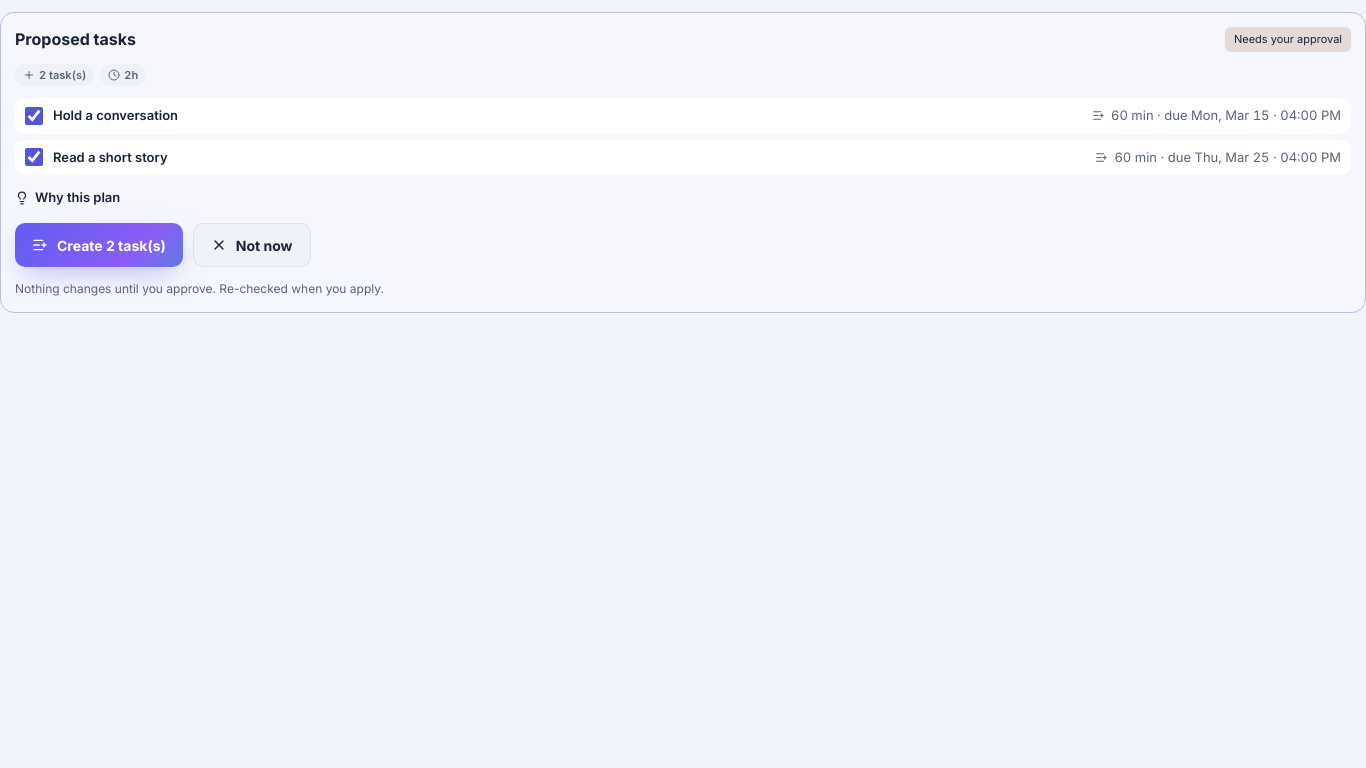
Test: copilot v3 › creates only the tasks the user keeps selected
Check: the text "Proposed tasks" is shown, box [15, 27, 136, 51]
Click the checkbox labelled "Hold a conversation" at (34, 116), box [25, 107, 43, 125]
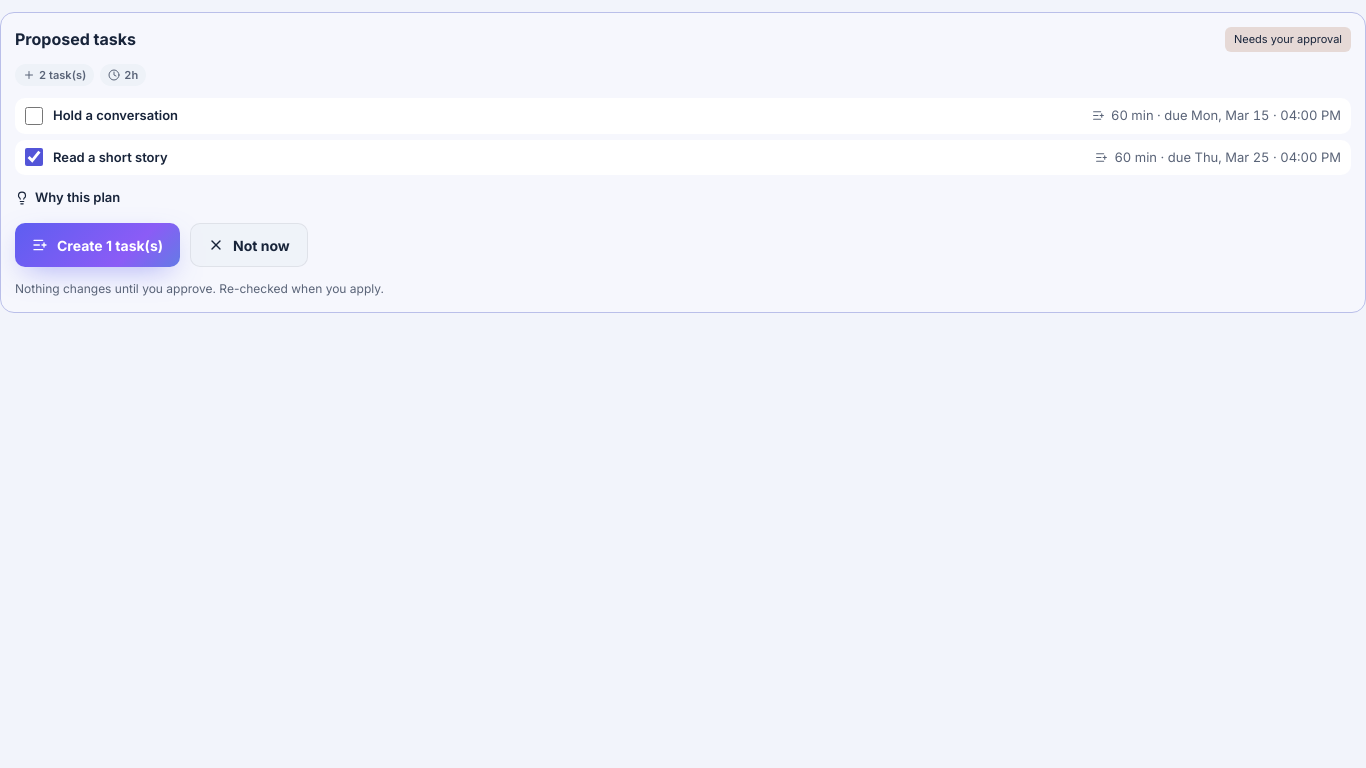
Click the button "Create 1 task(s)" at (98, 245), box [15, 223, 180, 267]
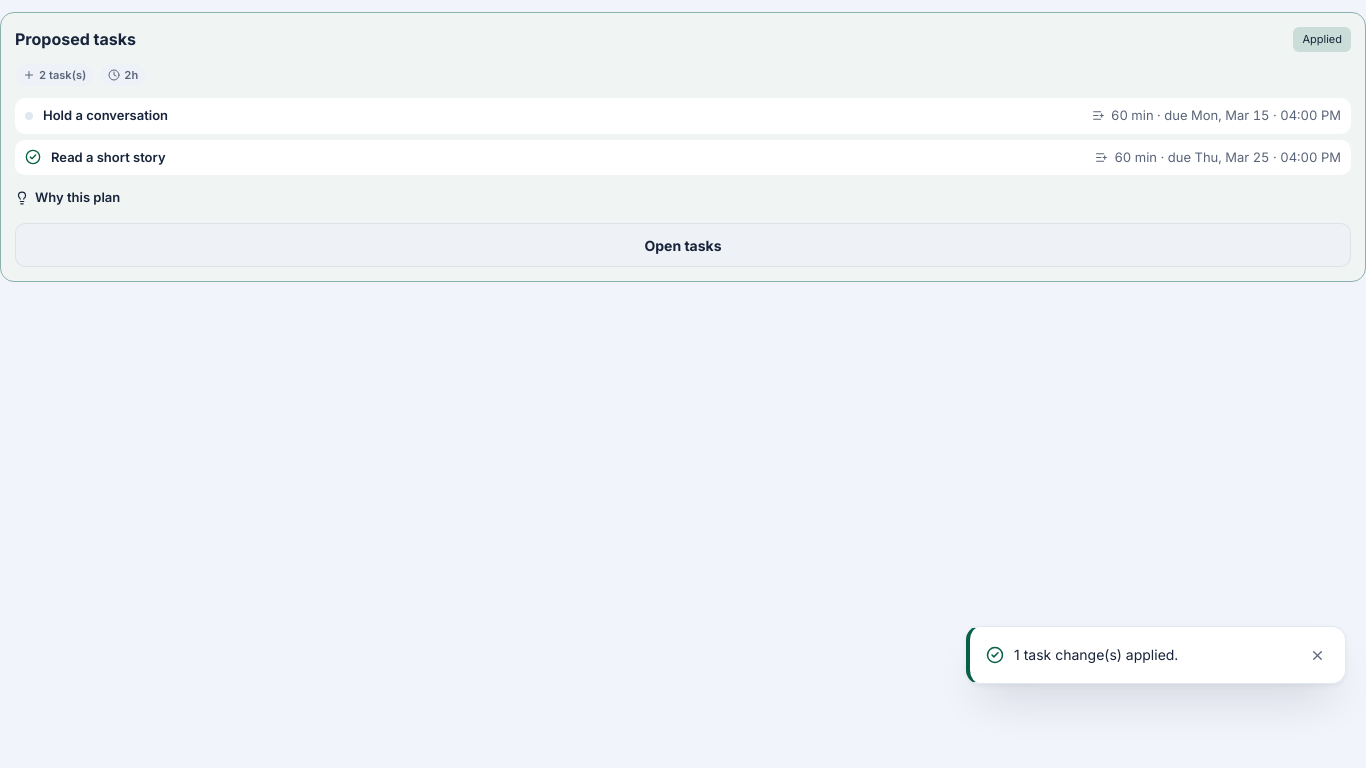
Check: the text "Applied" is shown, box [1294, 27, 1351, 52]
Check: the link "Open tasks" is shown, box [15, 223, 1351, 267]
